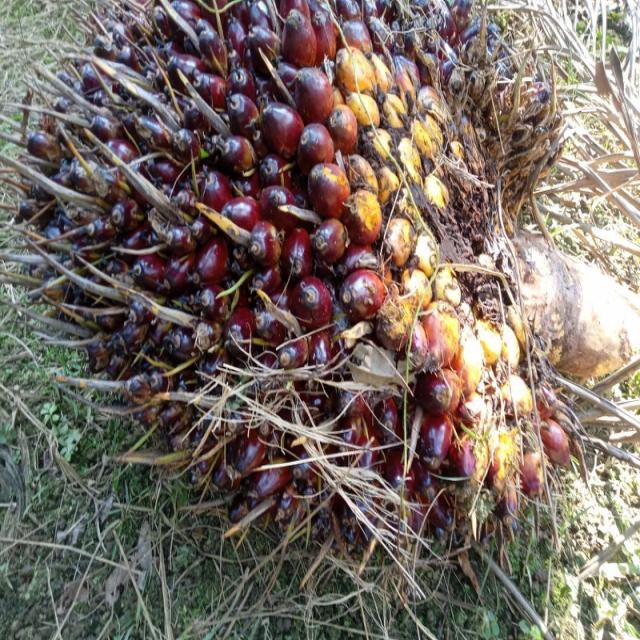fraksi 1: (30, 0, 584, 557)
